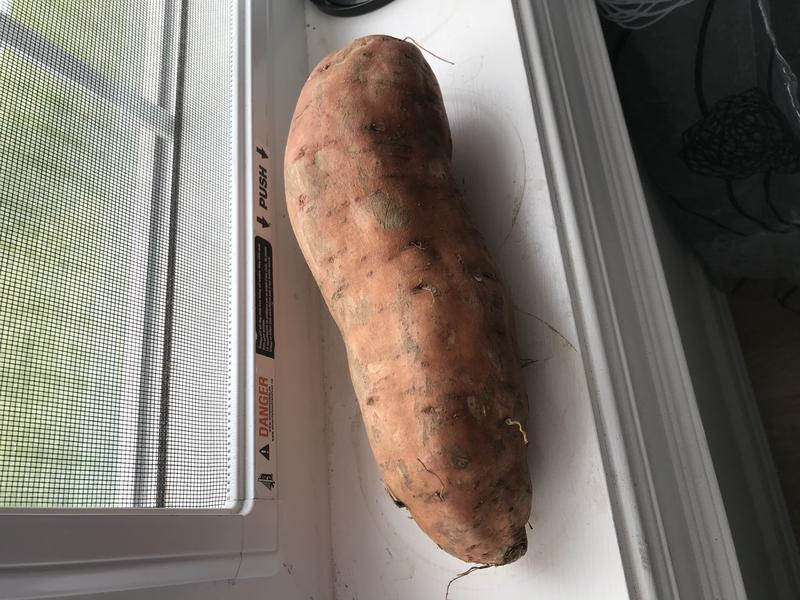sweet_potato: (272, 24, 558, 580)
